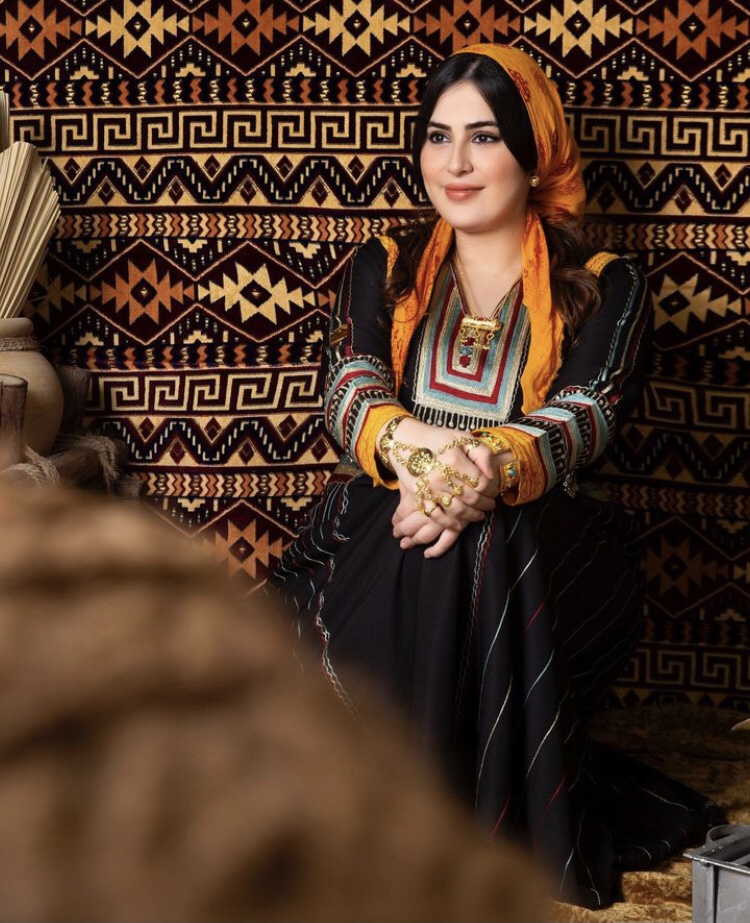Saudi_Founding_Day: (263, 36, 733, 915)
